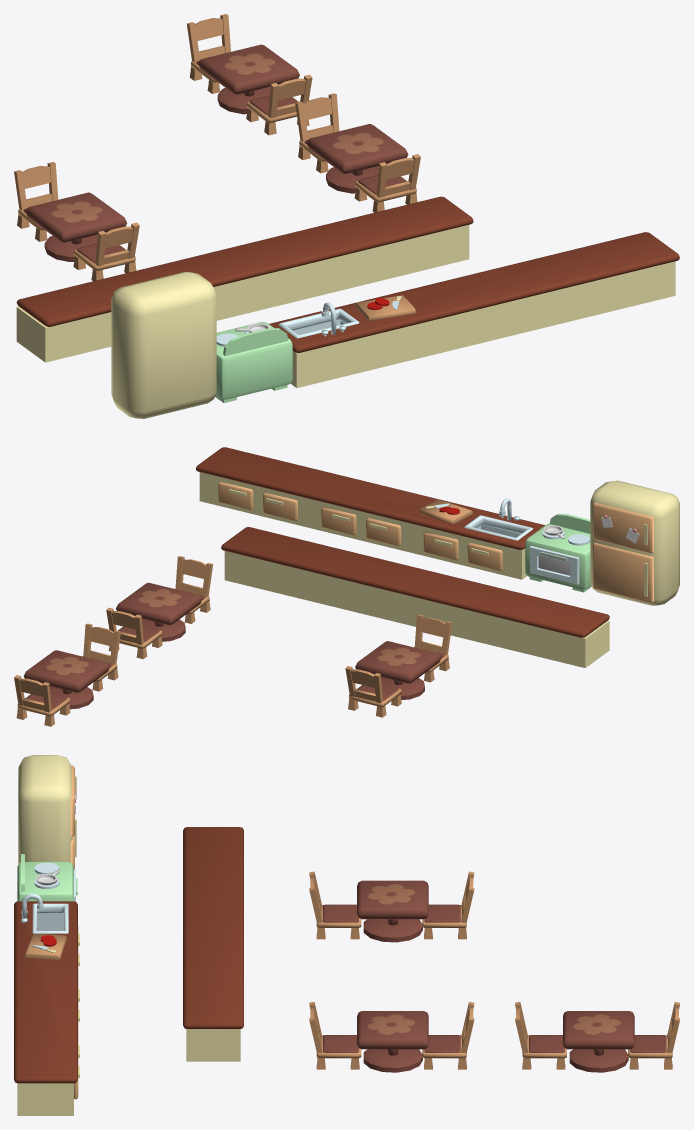
Rendered from environment.glb.
The picture shows the model from 3 angles, top to bottom: view 1: azimuth 30°, elevation 25°; view 2: azimuth 150°, elevation 25°; view 3: azimuth 270°, elevation 25°; orthographic projection. The views are drawn at different scales.
Visible parts, largest first — view 1: counters-col, fridge-col, table-col.001, table-col, table-col.002, stove-col, chopping board-col; view 2: counters-col, fridge-col, table-col.002, table-col, table-col.001, stove-col, chopping board-col; view 3: counters-col, table-col, table-col.001, table-col.002, fridge-col, stove-col, chopping board-col.
Part boxes in pixels (bbox=[...]): counters-col: bbox=[16, 196, 679, 387]; fridge-col: bbox=[111, 272, 216, 418]; table-col.001: bbox=[295, 93, 420, 212]; table-col: bbox=[14, 162, 139, 281]; table-col.002: bbox=[187, 14, 312, 135]; stove-col: bbox=[215, 322, 292, 402]; chopping board-col: bbox=[355, 295, 415, 321]; counters-col: bbox=[196, 447, 609, 668]; fridge-col: bbox=[590, 480, 679, 605]; table-col.002: bbox=[14, 623, 120, 726]; table-col: bbox=[345, 614, 452, 717]; table-col.001: bbox=[106, 556, 213, 659]; stove-col: bbox=[525, 513, 591, 592]; chopping board-col: bbox=[419, 499, 472, 524]; counters-col: bbox=[14, 827, 243, 1115]; table-col: bbox=[309, 871, 474, 942]; table-col.001: bbox=[309, 1001, 474, 1072]; table-col.002: bbox=[515, 1001, 679, 1072]; fridge-col: bbox=[18, 755, 76, 869]; stove-col: bbox=[17, 854, 77, 901]; chopping board-col: bbox=[24, 933, 66, 959].
Size of the model in its own units: 11.43 by 2.43 by 12.73.
Materials: 6 (5 with a texture image).
